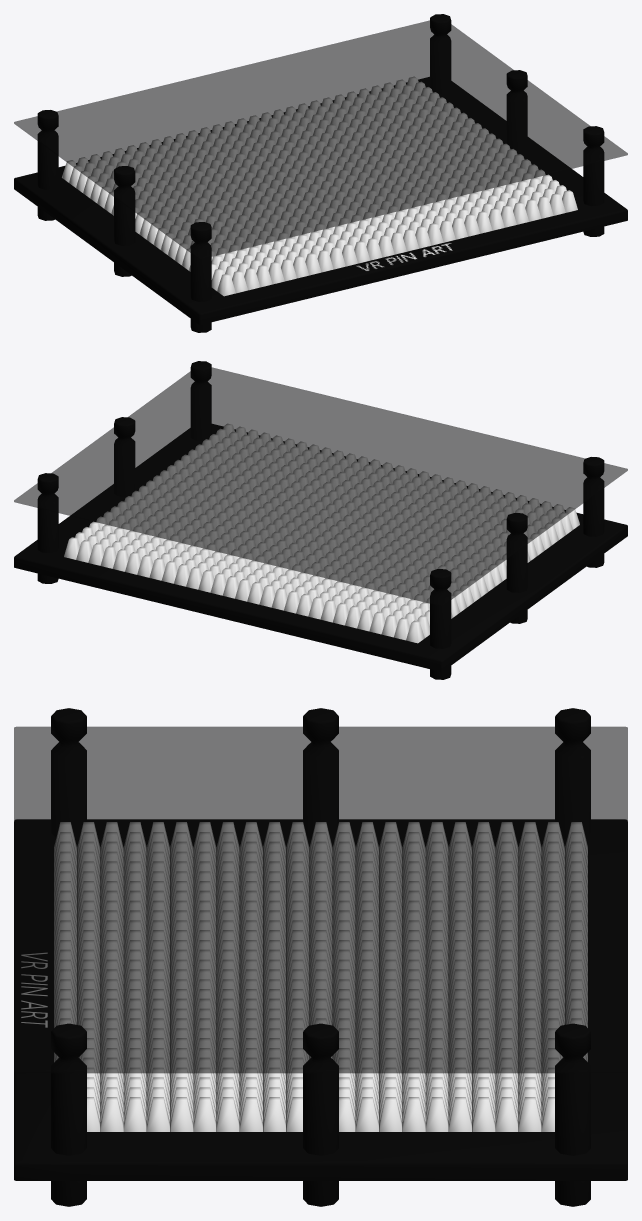
Rendered from PerformanceOption.fbx.
The picture shows the model from 3 angles, top to bottom: view 1: azimuth 30°, elevation 25°; view 2: azimuth 150°, elevation 25°; view 3: azimuth 270°, elevation 25°; orthographic projection. The views are drawn at different scales.
Parts seen in each view (by area): view 1: Plane; view 2: Plane; view 3: Plane.
Boxes of the visible parts, x1,y1,x2,y2 form: Plane: [14, 14, 627, 332]; Plane: [14, 361, 627, 679]; Plane: [14, 708, 627, 1206].
Size of the model in its own units: 14363 by 3285 by 10817.
